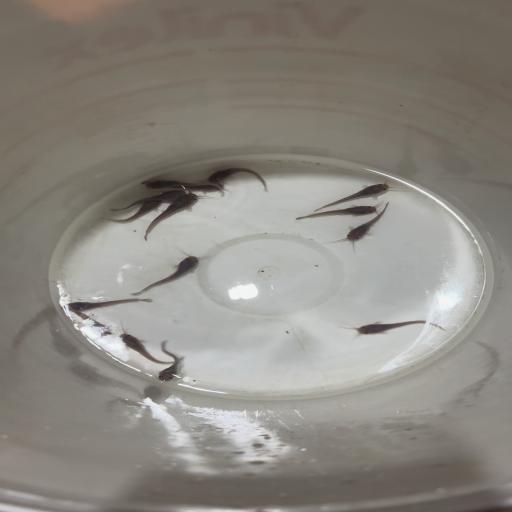lele: (129, 254, 204, 296), (141, 192, 205, 241), (310, 178, 398, 212), (334, 202, 392, 246), (115, 330, 187, 364), (346, 317, 448, 340), (291, 202, 383, 225), (204, 166, 276, 192), (109, 189, 186, 211), (57, 296, 156, 313), (102, 199, 162, 227), (59, 311, 115, 337), (152, 339, 184, 383), (141, 178, 226, 192), (178, 184, 230, 194)
